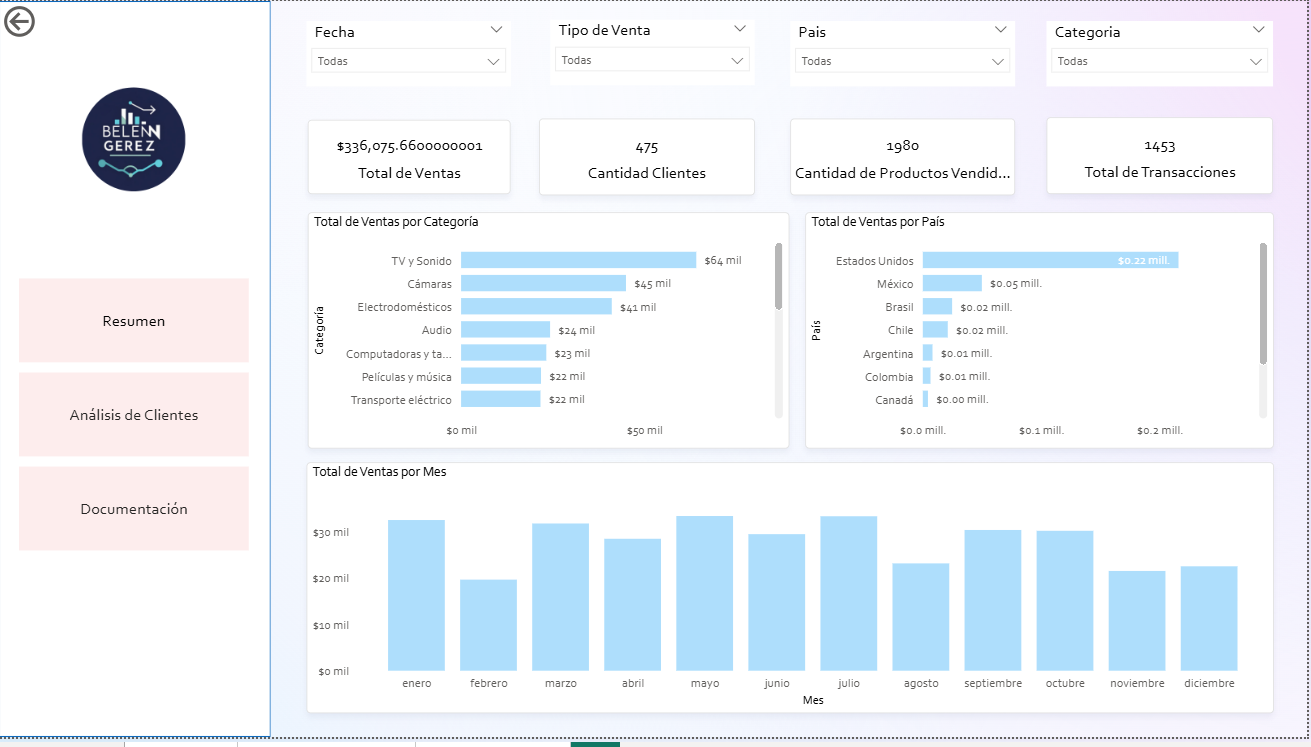

This screenshot's page, from the dashboard's own definition file:
{"tool":"powerbi","page":{"name":"Resumen","canvas":[1280,720],"ordinal":0},"visuals":[{"type":"shape","box":[0,0,265.9,720],"z":0},{"type":"pageNavigator","box":[19.4,271.9,225.6,268.9],"z":1000},{"type":"card","fields":{"Values":["Medidas.Total de Ventas"]},"box":[301.6,116.7,198.7,73.2],"z":2000},{"type":"card","fields":{"Values":["Medidas.Total Clientes"]},"box":[528.1,115.5,210.9,75.2],"z":3000},{"type":"card","fields":{"Values":["Medidas.Cantidad de Productos Vendidos"]},"box":[773.9,115.5,220.1,75.2],"z":4000},{"type":"card","fields":{"Values":["Medidas.Total de Transacciones"]},"box":[1025.1,113.7,221.9,75.2],"z":5000},{"type":"slicer","fields":{"Values":["Calendario.Date.Variación.Jerarquía de fechas.Año","Calendario.Date.Variación.Jerarquía de fechas.Mes","Calendario.Date.Variación.Jerarquía de fechas.Día"]},"box":[300.7,20.2,199.9,63.8],"z":6000},{"type":"slicer","fields":{"Values":["Ventas.Tipo_Venta"]},"box":[539.1,18.3,199.9,64.2],"z":7000},{"type":"slicer","fields":{"Values":["Ventas.País"]},"box":[773.9,20.2,220.1,64.2],"z":8000},{"type":"slicer","fields":{"Values":["Categorías_Productos.Categoría"]},"box":[1025.1,20.2,221.9,64.2],"z":9000},{"type":"lineStackedColumnComboChart","fields":{"Category":["Calendario.Date.Variación.Jerarquía de fechas.Mes"],"Y":["Medidas.Total de Ventas"]},"box":[300.7,451.1,946.2,245.7],"z":10000},{"type":"actionButton","box":[0,0,100,40],"z":11000},{"type":"barChart","fields":{"Y":["Medidas.Total de Ventas"],"Category":["Categorías_Productos.Categoría"]},"box":[302.6,207.2,471.3,231.1],"z":12000},{"type":"barChart","fields":{"Y":["Medidas.Total de Ventas"],"Category":["Datos_Clientes.País"]},"box":[788.5,207.2,458.4,231.1],"z":13000},{"type":"image","box":[9,40.3,246.5,209.1],"z":14000}]}

Visuals, with their boxes on the page's 1280x720 design canvas (x1, y1, x2, y2). These are canvas units, not pixel positions in the 1311x747 screenshot, which may show the page scaled, cropped or inside an application window:
shape: <region>0, 0, 266, 720</region>
pageNavigator: <region>19, 272, 245, 541</region>
card - Medidas.Total de Ventas: <region>302, 117, 500, 190</region>
card - Medidas.Total Clientes: <region>528, 116, 739, 191</region>
card - Medidas.Cantidad de Productos Vendidos: <region>774, 116, 994, 191</region>
card - Medidas.Total de Transacciones: <region>1025, 114, 1247, 189</region>
slicer - Calendario.Date.Variación.Jerarquía de fechas.Año x Calendario.Date.Variación.Jerarquía de fechas.Mes: <region>301, 20, 501, 84</region>
slicer - Ventas.Tipo_Venta: <region>539, 18, 739, 82</region>
slicer - Ventas.País: <region>774, 20, 994, 84</region>
slicer - Categorías_Productos.Categoría: <region>1025, 20, 1247, 84</region>
lineStackedColumnComboChart - Calendario.Date.Variación.Jerarquía de fechas.Mes x Medidas.Total de Ventas: <region>301, 451, 1247, 697</region>
actionButton: <region>0, 0, 100, 40</region>
barChart - Medidas.Total de Ventas x Categorías_Productos.Categoría: <region>303, 207, 774, 438</region>
barChart - Medidas.Total de Ventas x Datos_Clientes.País: <region>788, 207, 1247, 438</region>
image: <region>9, 40, 256, 249</region>
